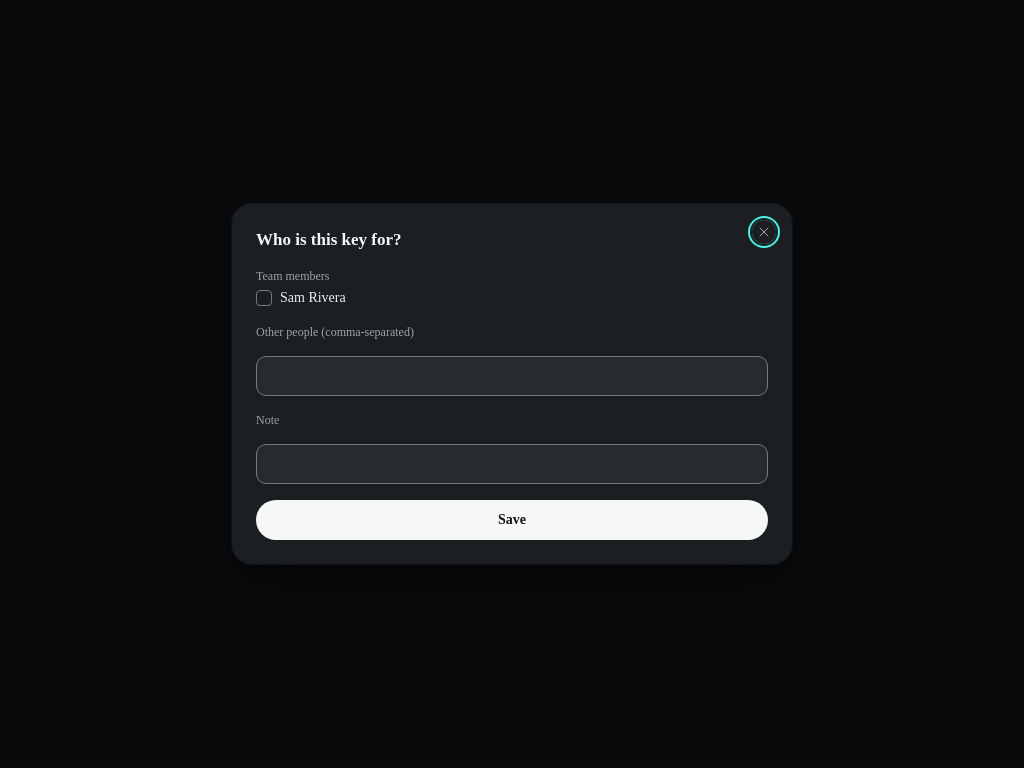
Test: KeyHoldersModal › requires at least one holder
This screenshot has width=1024, height=768.
What coordinates should you click on to do the following:
click the button "Save"
I would click on:
 (512, 520)
Its box is [256,500,768,540].
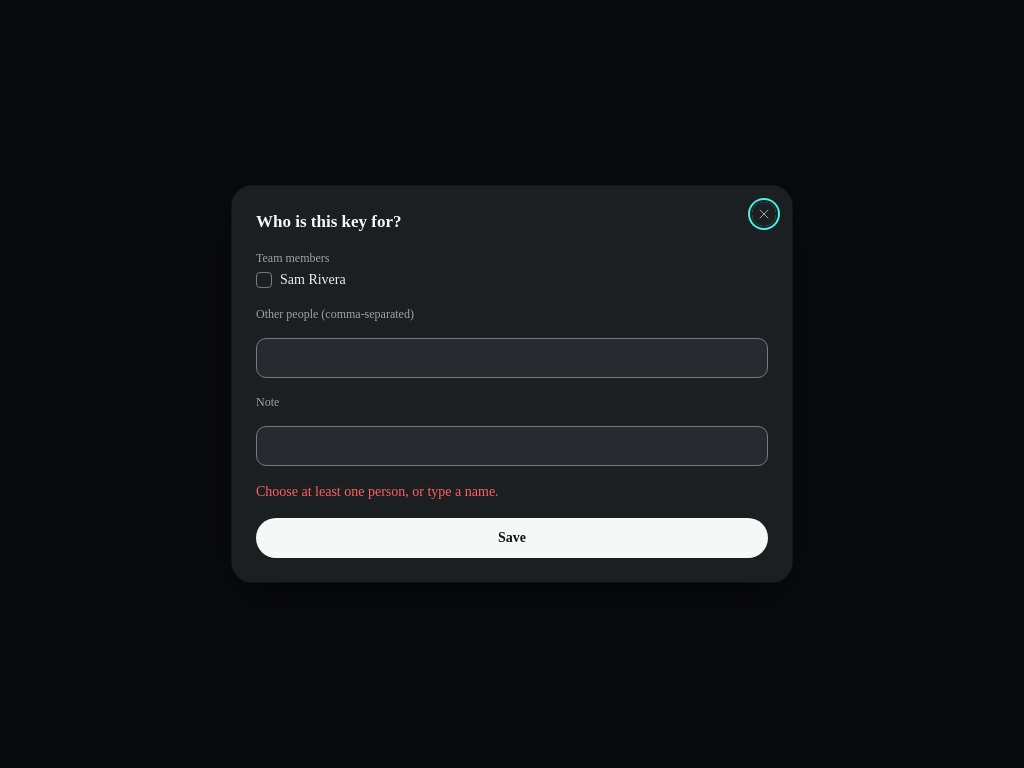
Check: the message reads "Choose at least one person, or type a name.", box [256,484,499,499]
